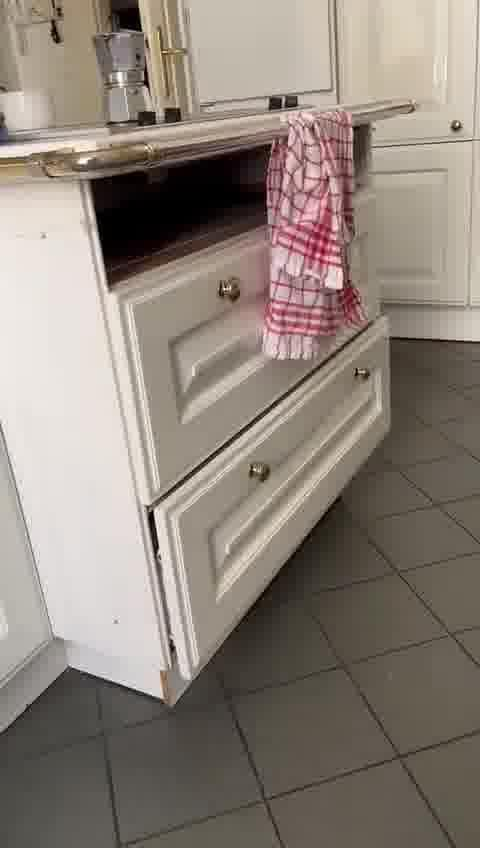cabinet_door: (115, 244, 386, 380), (142, 385, 392, 523)
handle: (215, 277, 249, 310), (246, 457, 276, 494), (352, 360, 376, 387), (448, 112, 465, 145)
